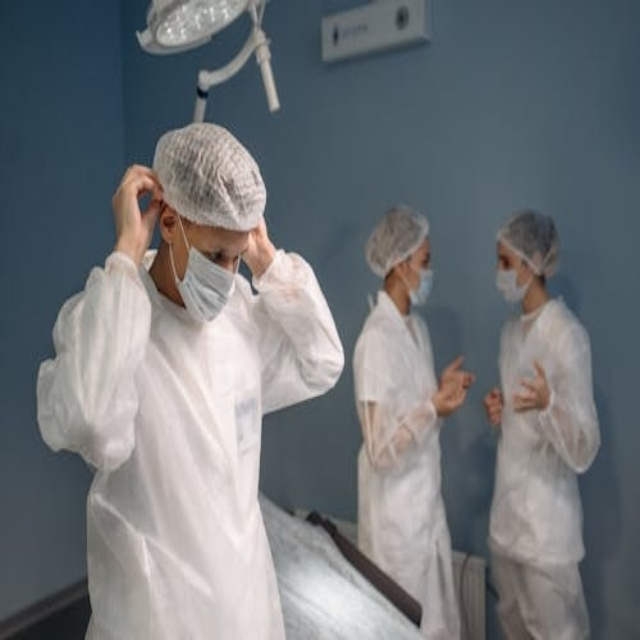Mascara: (170, 218, 238, 324), (495, 261, 534, 305), (405, 263, 433, 307)
Sin_gafas: (193, 230, 257, 276), (408, 243, 435, 270), (495, 247, 521, 272)
Sin_guantes: (99, 149, 168, 270), (239, 197, 282, 282), (433, 343, 479, 420), (510, 356, 551, 415), (482, 386, 503, 426)
